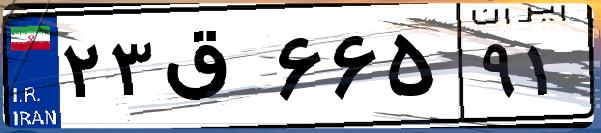1: (525, 38, 570, 115)
2: (57, 26, 110, 100)
3: (110, 28, 158, 98)
5: (385, 28, 445, 110)
6: (270, 28, 330, 110), (330, 28, 385, 110)
9: (475, 38, 525, 113)
ق: (158, 20, 270, 120)
